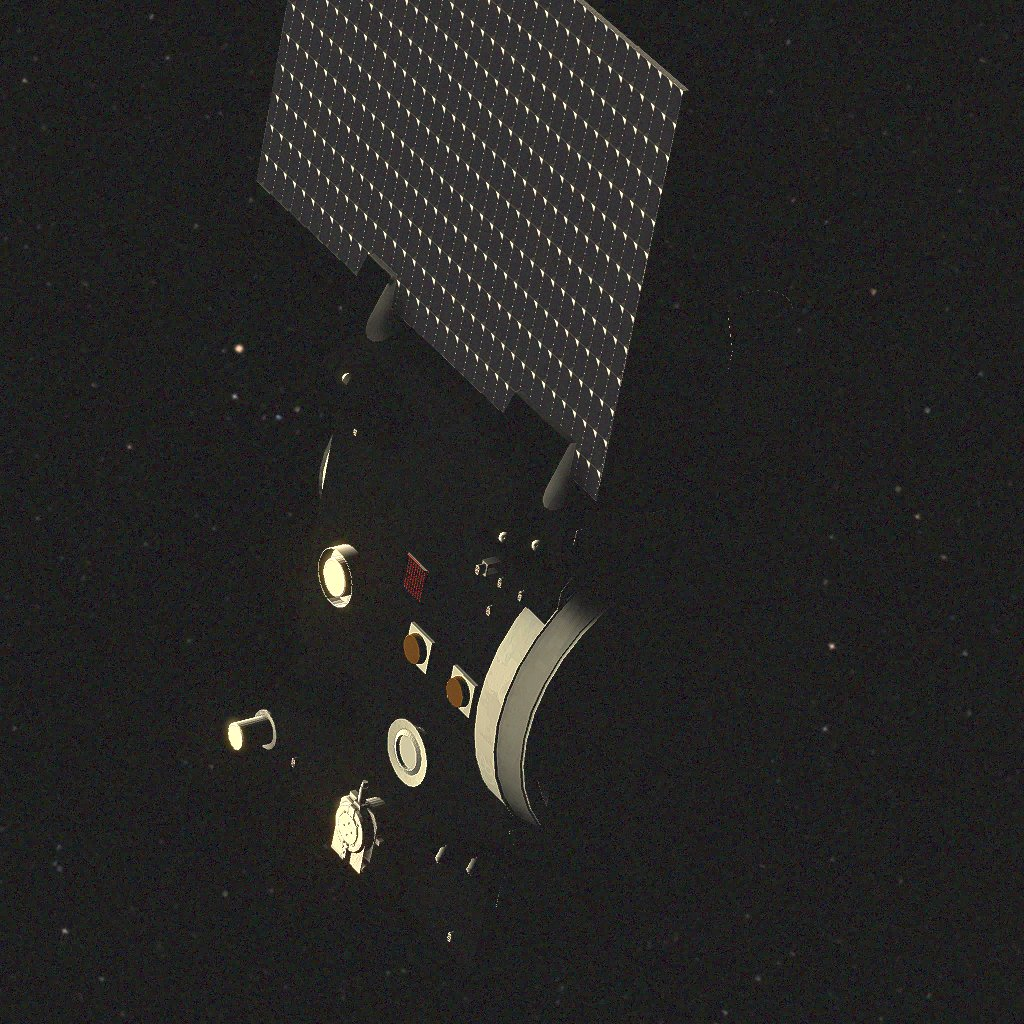proba_3_csc: (228, 0, 829, 976)
